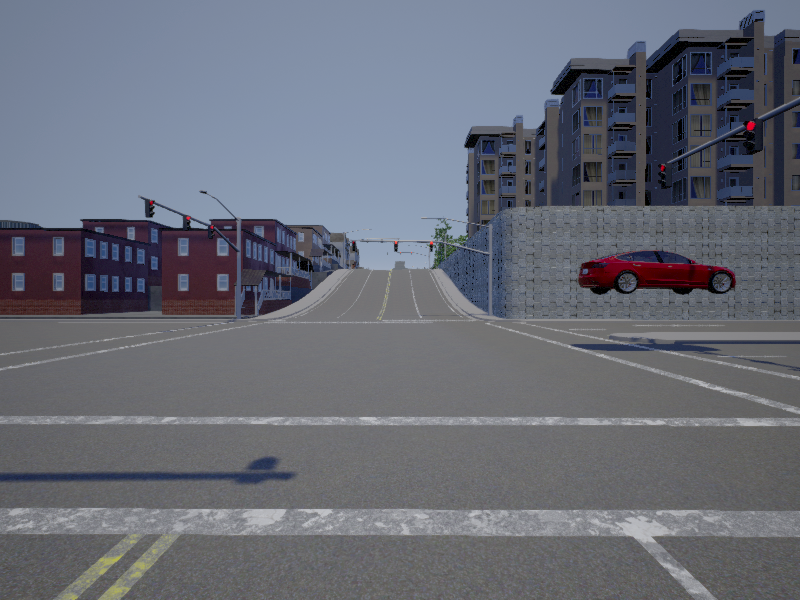Attacker: (581, 250, 738, 294)
